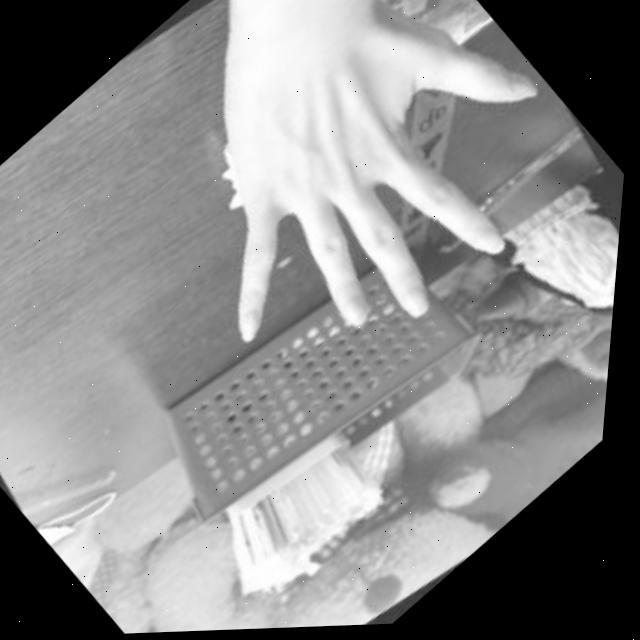no-gloves: (117, 0, 619, 429)
